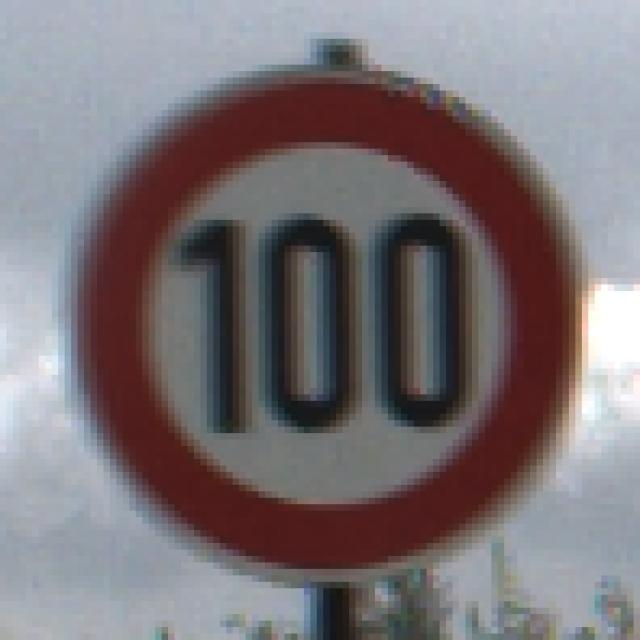speed limit 100: (65, 65, 594, 585)
